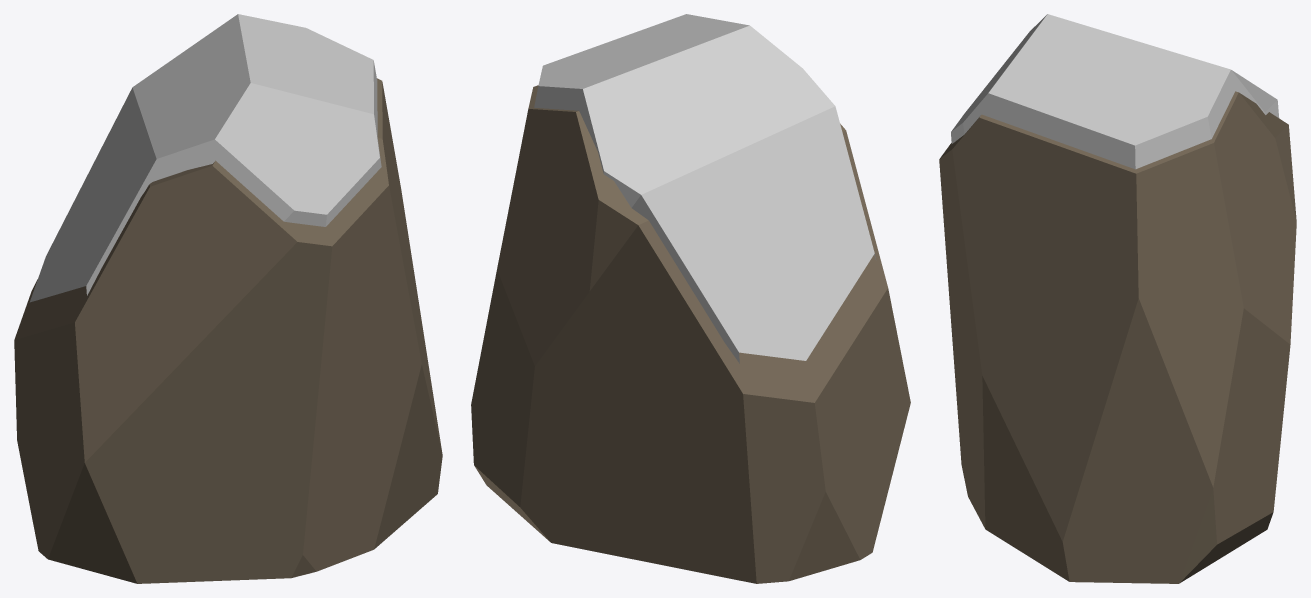
The model's file is Stone_5_snow_brown_vc.fbx.
The picture shows the model from 3 angles, left to right: view 1: azimuth 30°, elevation 25°; view 2: azimuth 150°, elevation 25°; view 3: azimuth 270°, elevation 25°; orthographic projection. The views are drawn at different scales.
Parts seen in each view (by area): view 1: Stone_5_snow_brown_vc; view 2: Stone_5_snow_brown_vc; view 3: Stone_5_snow_brown_vc.
Part boxes in pixels (box(x1,y1,x2,y2)): Stone_5_snow_brown_vc: box(14, 14, 442, 583); Stone_5_snow_brown_vc: box(471, 14, 910, 583); Stone_5_snow_brown_vc: box(939, 14, 1296, 583).
Size of the model in its own units: 83.72 by 102 by 70.29.
